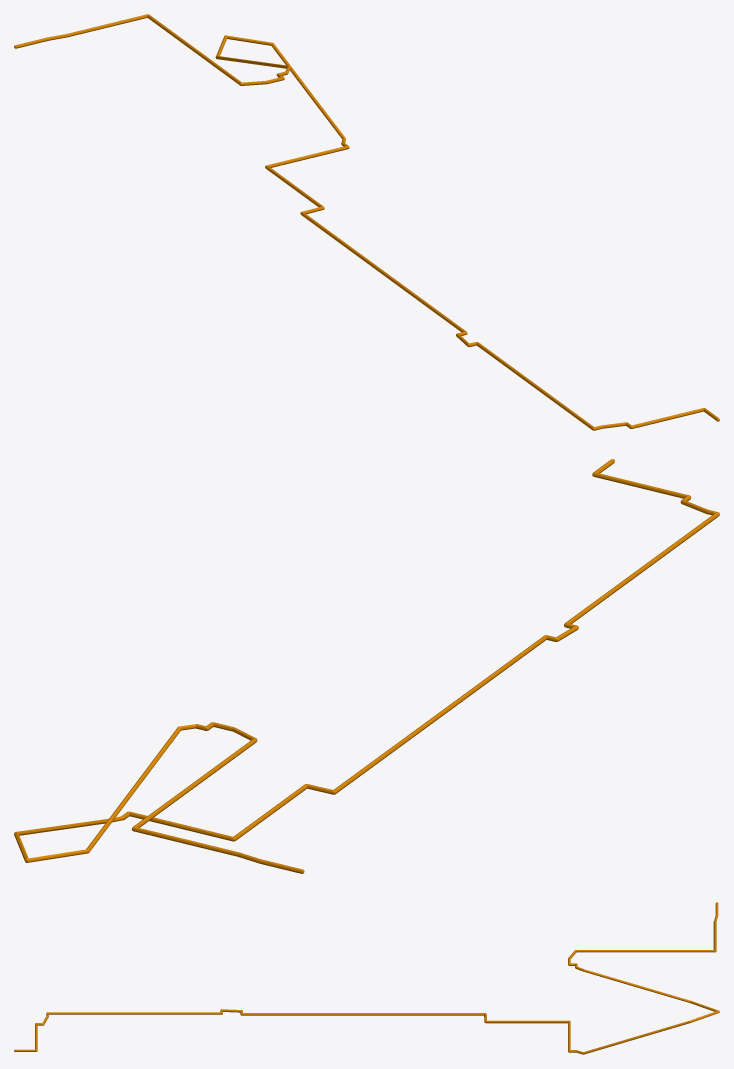
3 renders of one model, top to bottom at view 1: azimuth 30°, elevation 25°; view 2: azimuth 150°, elevation 25°; view 3: azimuth 270°, elevation 25°, orthographic. The views are drawn at different scales.
Size of the model in its own units: 1495 by 520 by 5070.
